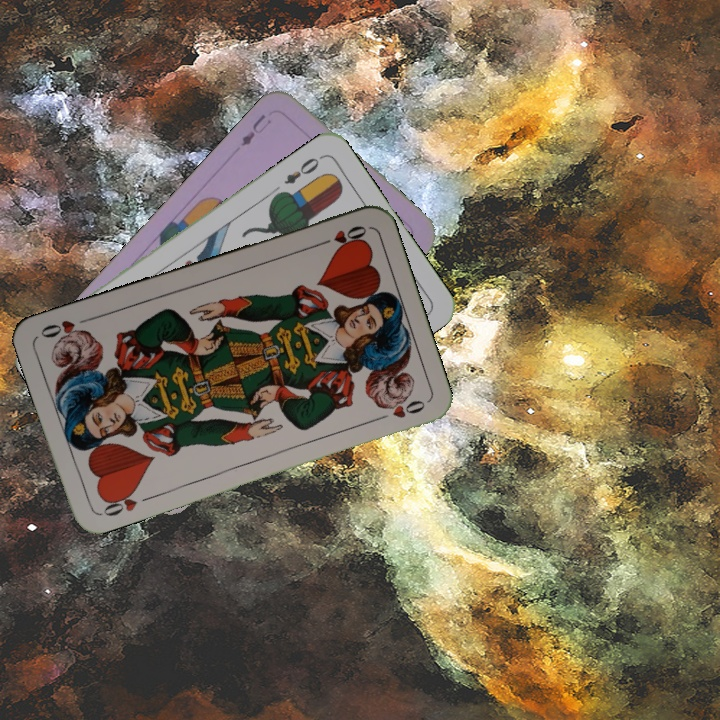EO: (280, 151, 325, 187)
EU: (236, 109, 274, 149)
HO: (312, 221, 369, 250), (96, 485, 140, 519)
